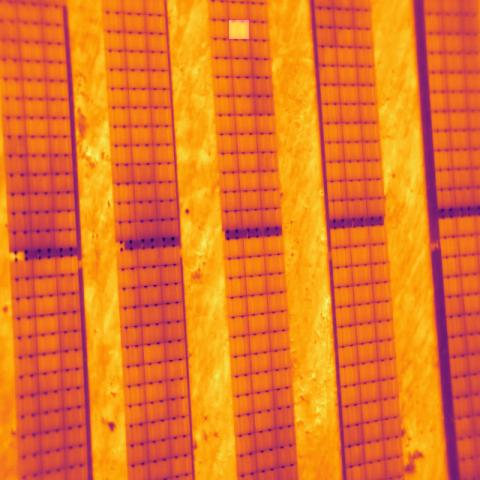fault: (230, 20, 250, 39)
